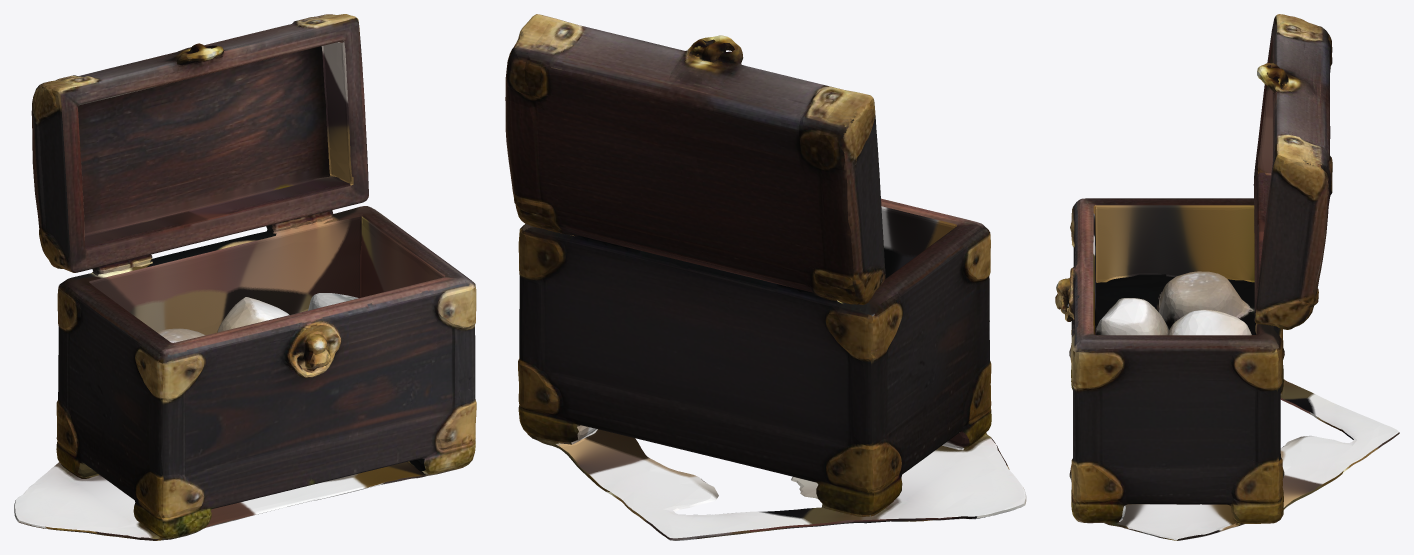
The model's file is traveler_env_coast_kudo_miya_casket_00001_.glb.
3 views of the same model, side by side, from view 1: azimuth 30°, elevation 25°; view 2: azimuth 150°, elevation 25°; view 3: azimuth 270°, elevation 25° (orthographic). The views are drawn at different scales.
Visible parts, largest first — view 1: temp_mesh.ply; view 2: temp_mesh.ply; view 3: temp_mesh.ply.
Part boxes in pixels (bbox=[...]): temp_mesh.ply: bbox=[14, 14, 476, 540]; temp_mesh.ply: bbox=[505, 14, 1026, 540]; temp_mesh.ply: bbox=[1055, 14, 1399, 540].
Size of the model in its own units: 1.98 by 1.71 by 1.41.
Materials: 1 (1 with a texture image).
